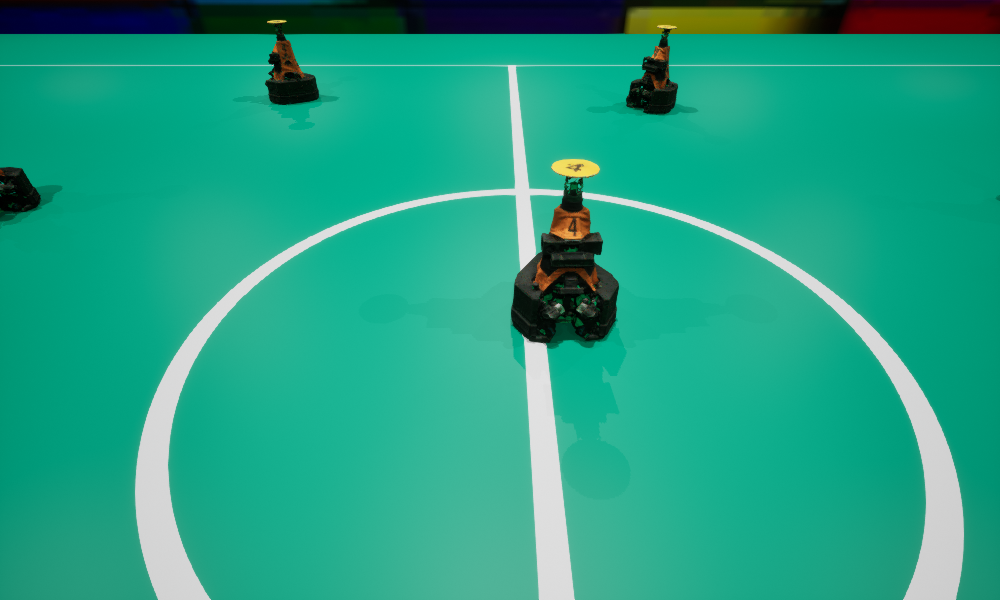o: (511, 159, 618, 342), (626, 25, 677, 113), (265, 20, 318, 103), (0, 167, 40, 212)
